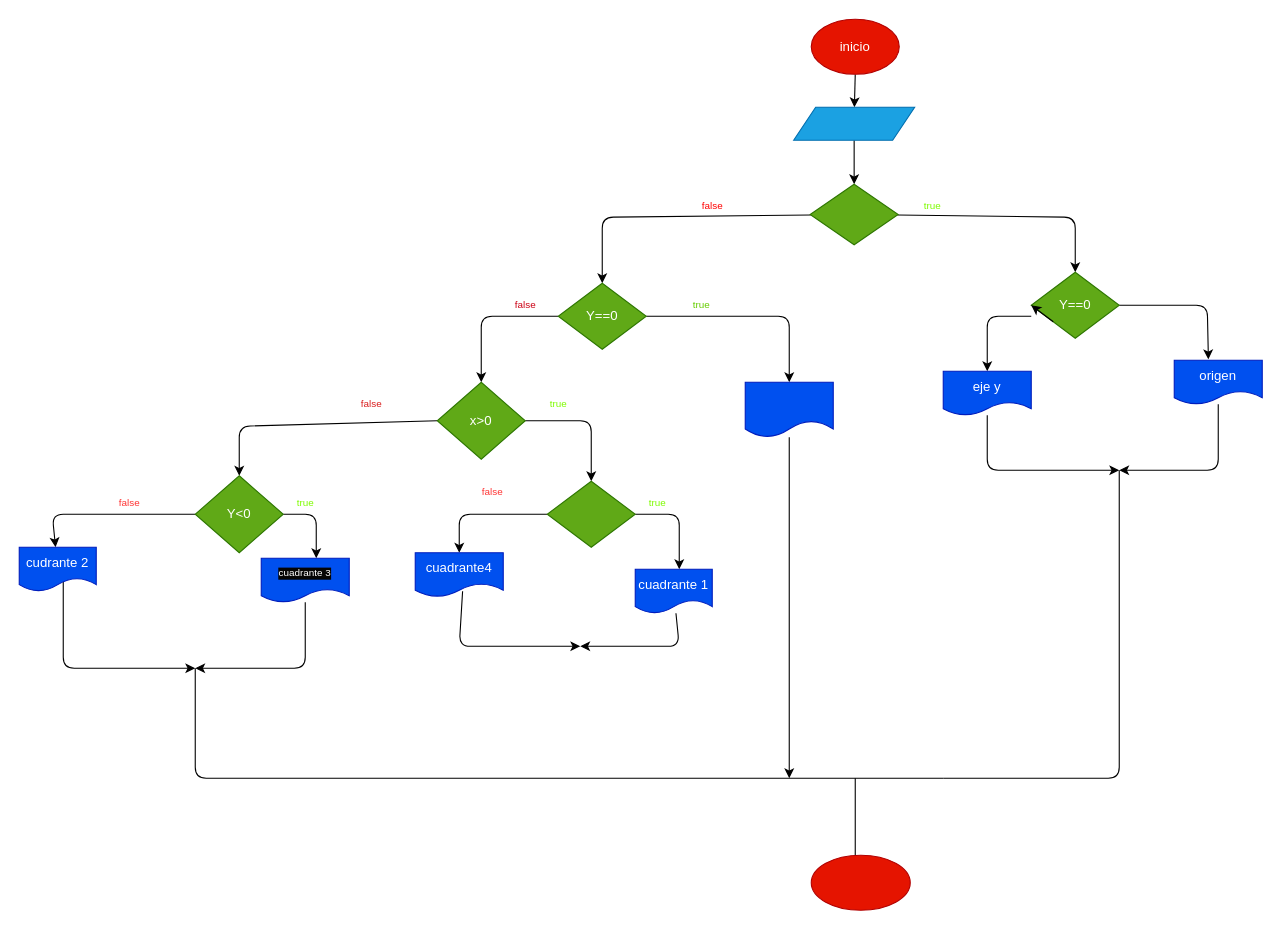
Image size: 1282x930. Some labels were removed from this diagram. The shapes that lost their labels are listed below. From the top down, each one's centre as x and y in pixels, then its label:
[854,123]: X,Y
[853,214]: X==0
[788,409]: eje x
[590,513]: Y>
[860,882]: FIN
